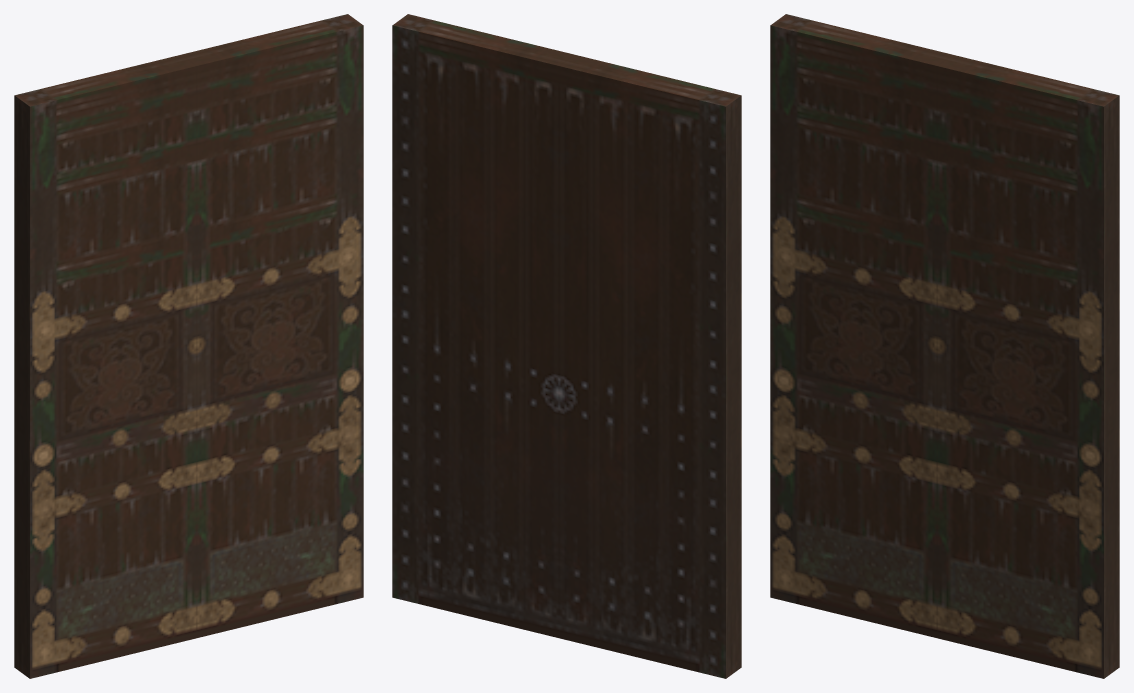
File: b_zx_damen01_lod2.FBX
The picture shows the model from 3 angles, left to right: view 1: azimuth 30°, elevation 25°; view 2: azimuth 150°, elevation 25°; view 3: azimuth 330°, elevation 25°; orthographic projection.
Visible parts, largest first — view 1: b_zx_damen01_lod2; view 2: b_zx_damen01_lod2; view 3: b_zx_damen01_lod2.
Boxes of the visible parts, <box> form: b_zx_damen01_lod2: <box>14,14,363,678</box>; b_zx_damen01_lod2: <box>392,14,741,678</box>; b_zx_damen01_lod2: <box>770,14,1119,678</box>.
Size of the model in its own units: 2.72 by 4.46 by 0.2197.
